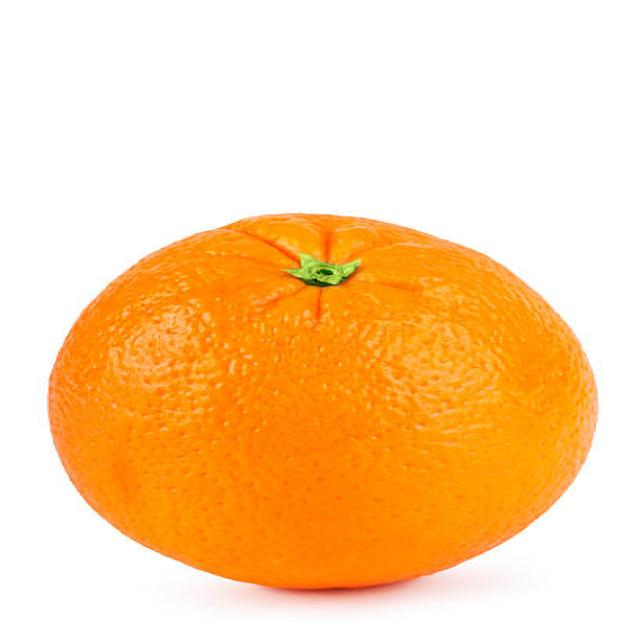Ripe: (44, 204, 606, 594)
